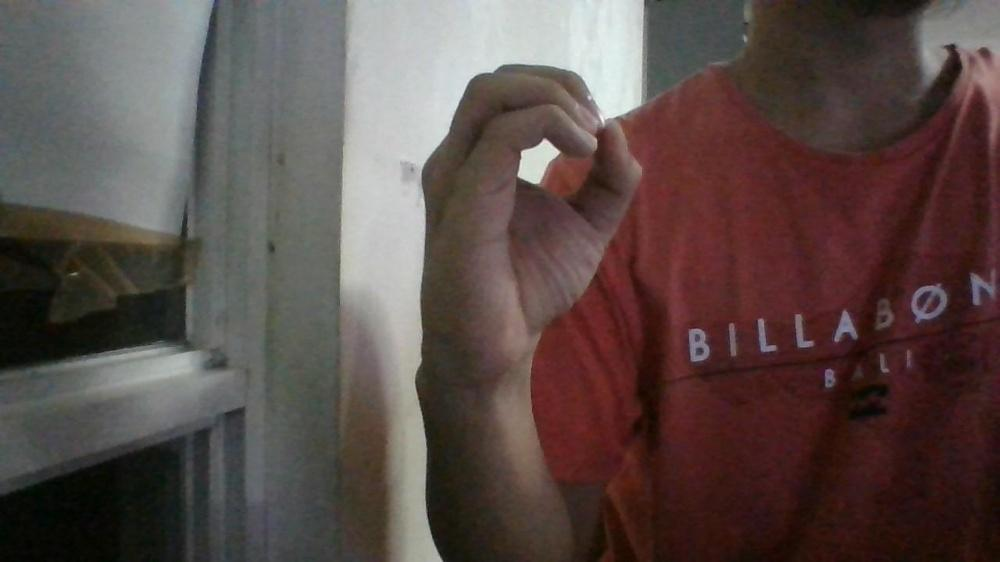o: (417, 62, 644, 386)
